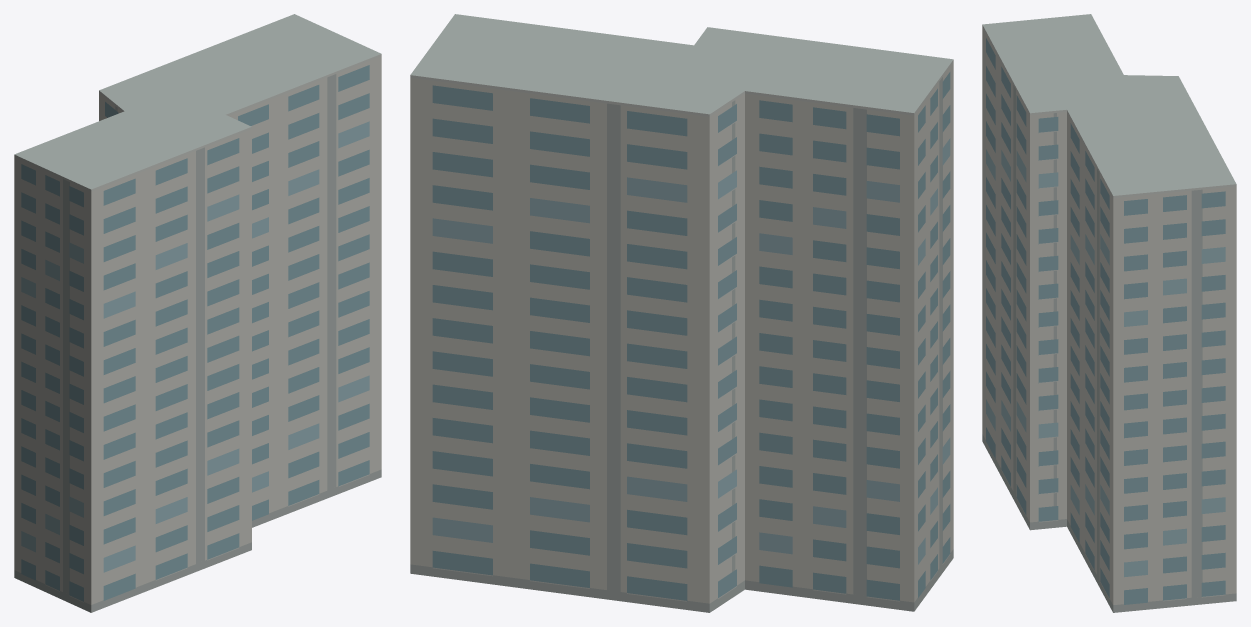
The model's file is residential-aabb462b-4ef6-4052-9276-ebf9d506ee2a.glb.
3 renders of one model, left to right at view 1: azimuth 30°, elevation 25°; view 2: azimuth 150°, elevation 25°; view 3: azimuth 270°, elevation 25°, orthographic. The views are drawn at different scales.
Visible parts, largest first — view 1: residential-aabb462b-4ef6-4052-9276-ebf9d506ee2a.tmp; view 2: residential-aabb462b-4ef6-4052-9276-ebf9d506ee2a.tmp; view 3: residential-aabb462b-4ef6-4052-9276-ebf9d506ee2a.tmp.
Boxes of the visible parts, left/top/right/bottom form: residential-aabb462b-4ef6-4052-9276-ebf9d506ee2a.tmp: left=14, top=14, right=381, bottom=612; residential-aabb462b-4ef6-4052-9276-ebf9d506ee2a.tmp: left=410, top=14, right=953, bottom=612; residential-aabb462b-4ef6-4052-9276-ebf9d506ee2a.tmp: left=982, top=14, right=1236, bottom=612.
Size of the model in its own units: 42.84 by 45.75 by 25.29.
